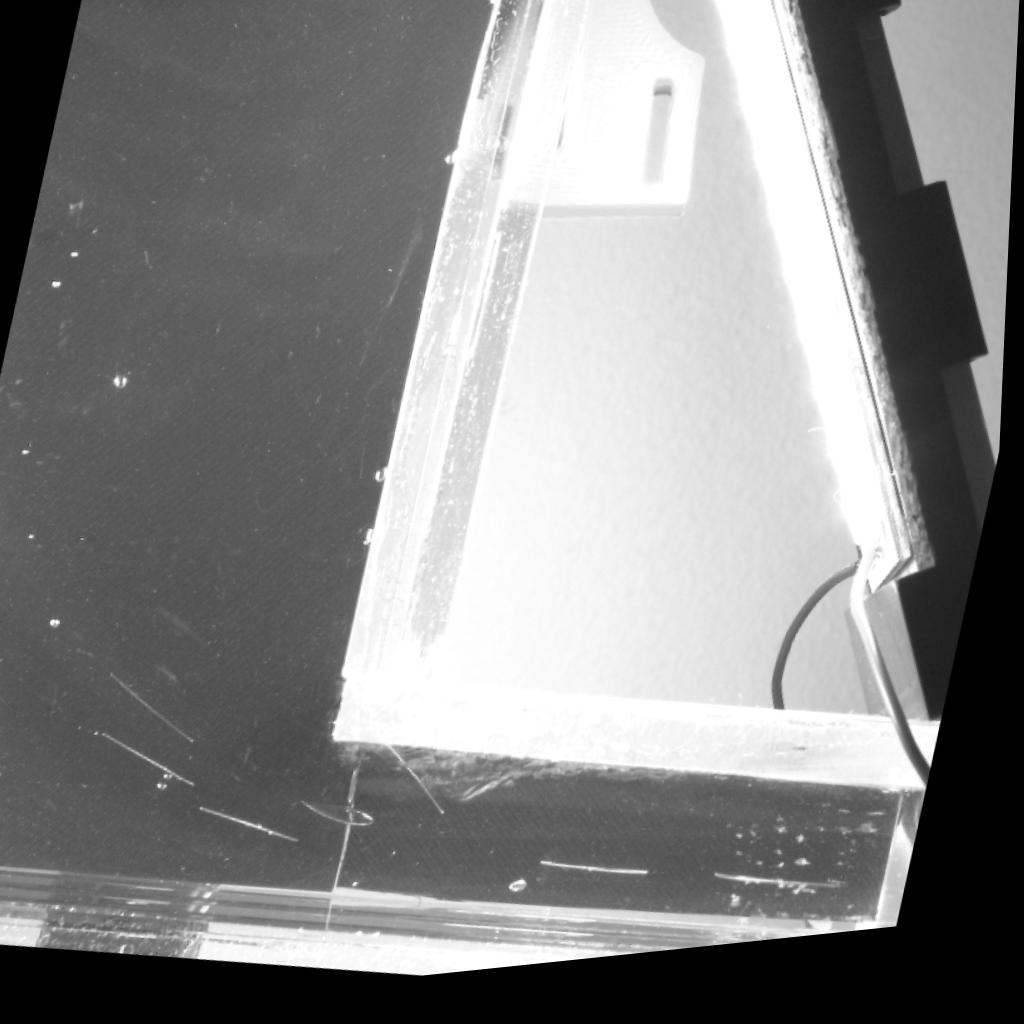Fiber: (112, 672, 202, 752), (104, 728, 204, 795), (386, 749, 458, 828), (203, 809, 307, 851), (718, 882, 849, 910), (546, 869, 656, 893)
